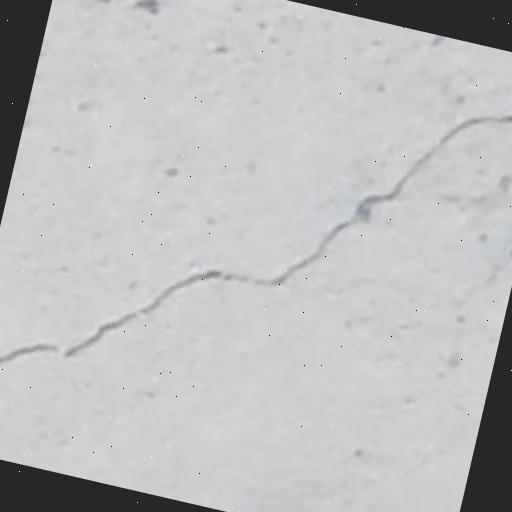spalling: (0, 84, 512, 389)
